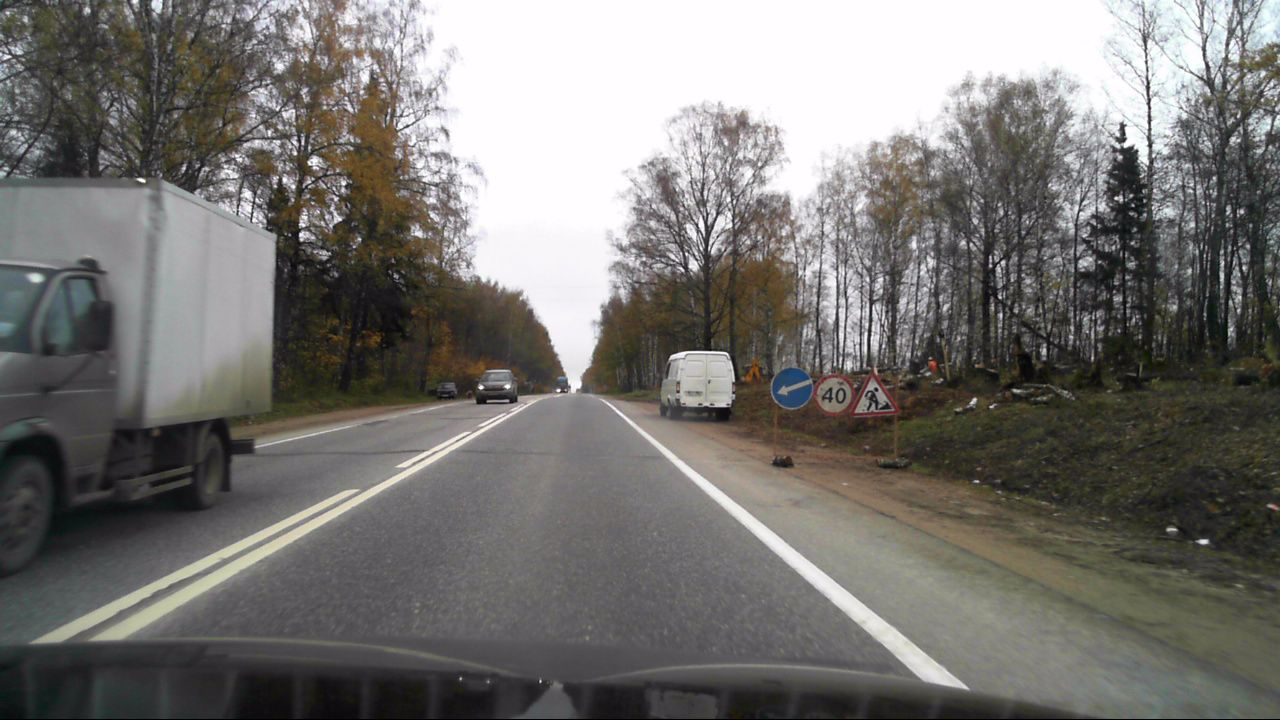speed_warning_40: (814, 374, 851, 414)
